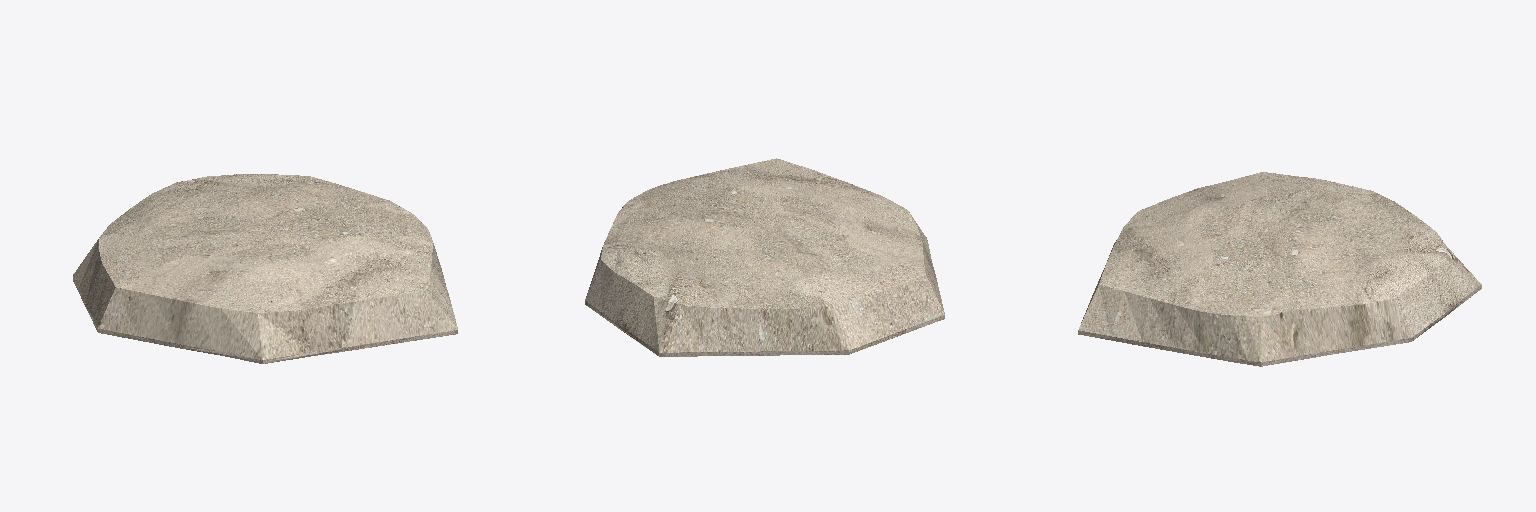
The picture shows the model from 3 angles: view 1: azimuth 30°, elevation 25°; view 2: azimuth 150°, elevation 25°; view 3: azimuth 270°, elevation 25°; orthographic projection.
Parts seen in each view (by area): view 1: Island; view 2: Island; view 3: Island.
Part boxes in pixels (x1,y1,x2,y2): Island: (73,174,457,363); Island: (585,158,944,356); Island: (1078,172,1481,366).
Bounding box in the file's own units: 51.07 × 8.46 × 53.26.
1 materials, 1 textured.